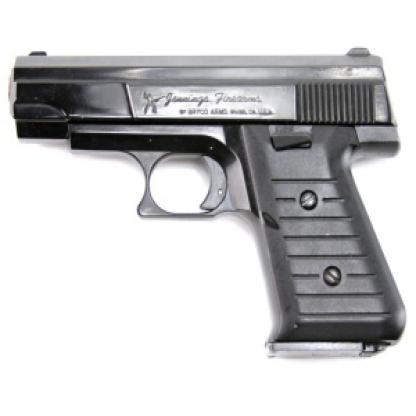Guns: (4, 42, 411, 354)
